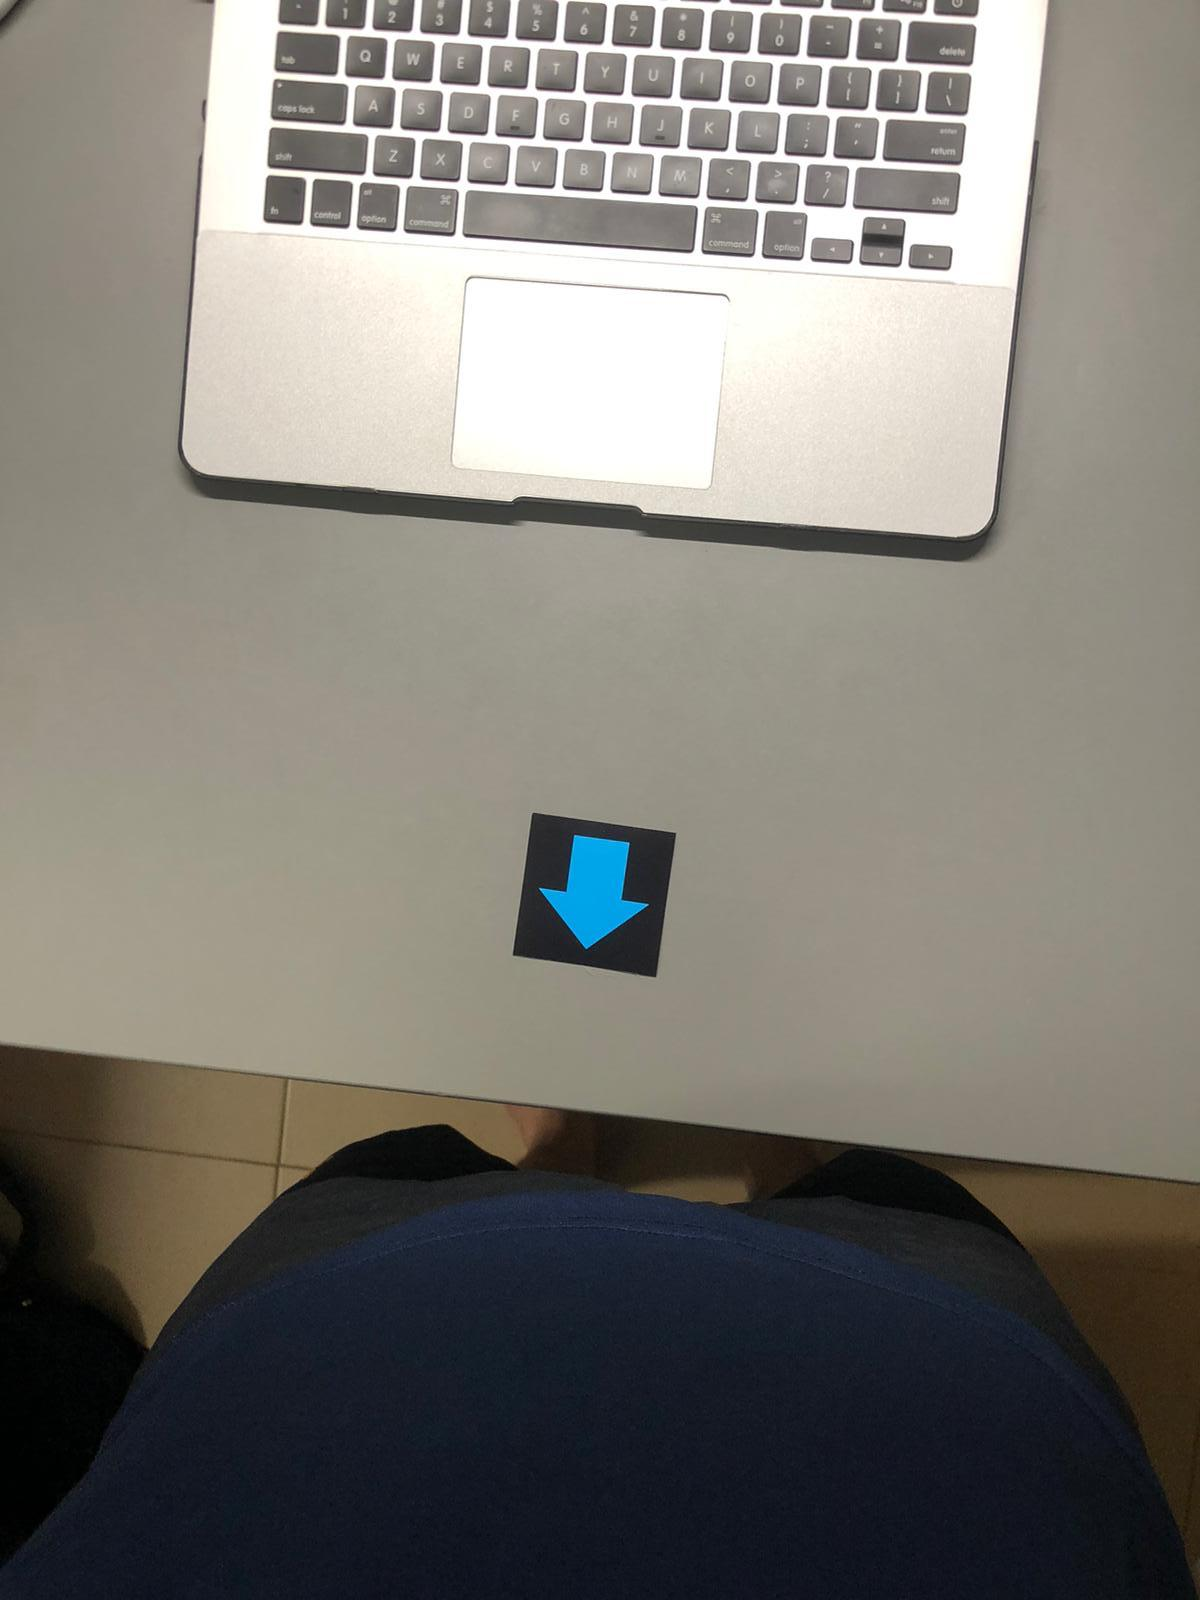Down Arrow: (524, 813, 655, 974)
